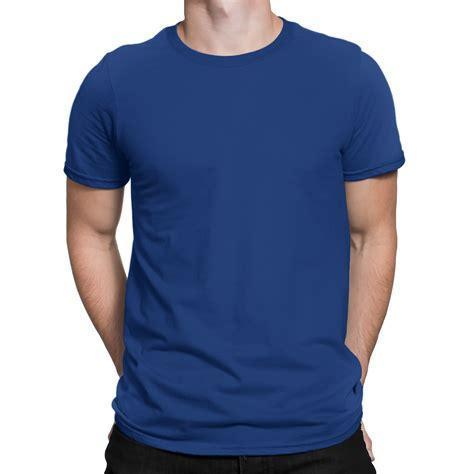Tshirt: (62, 17, 404, 456)
